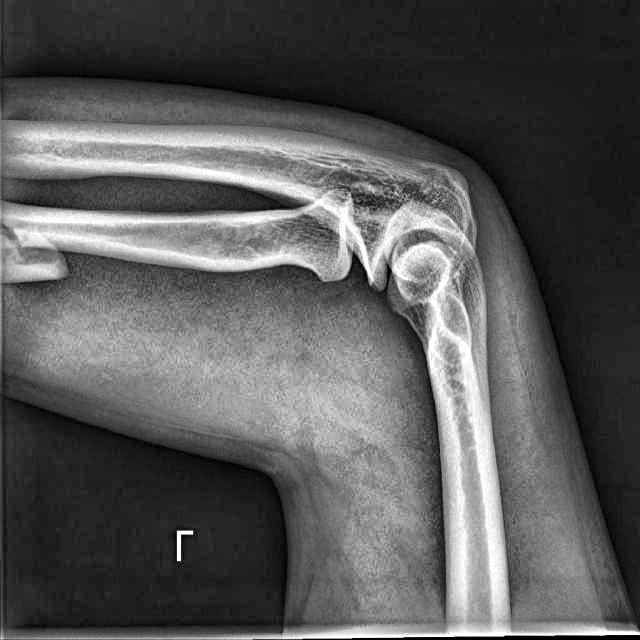Spiral: (2, 187, 68, 299)
